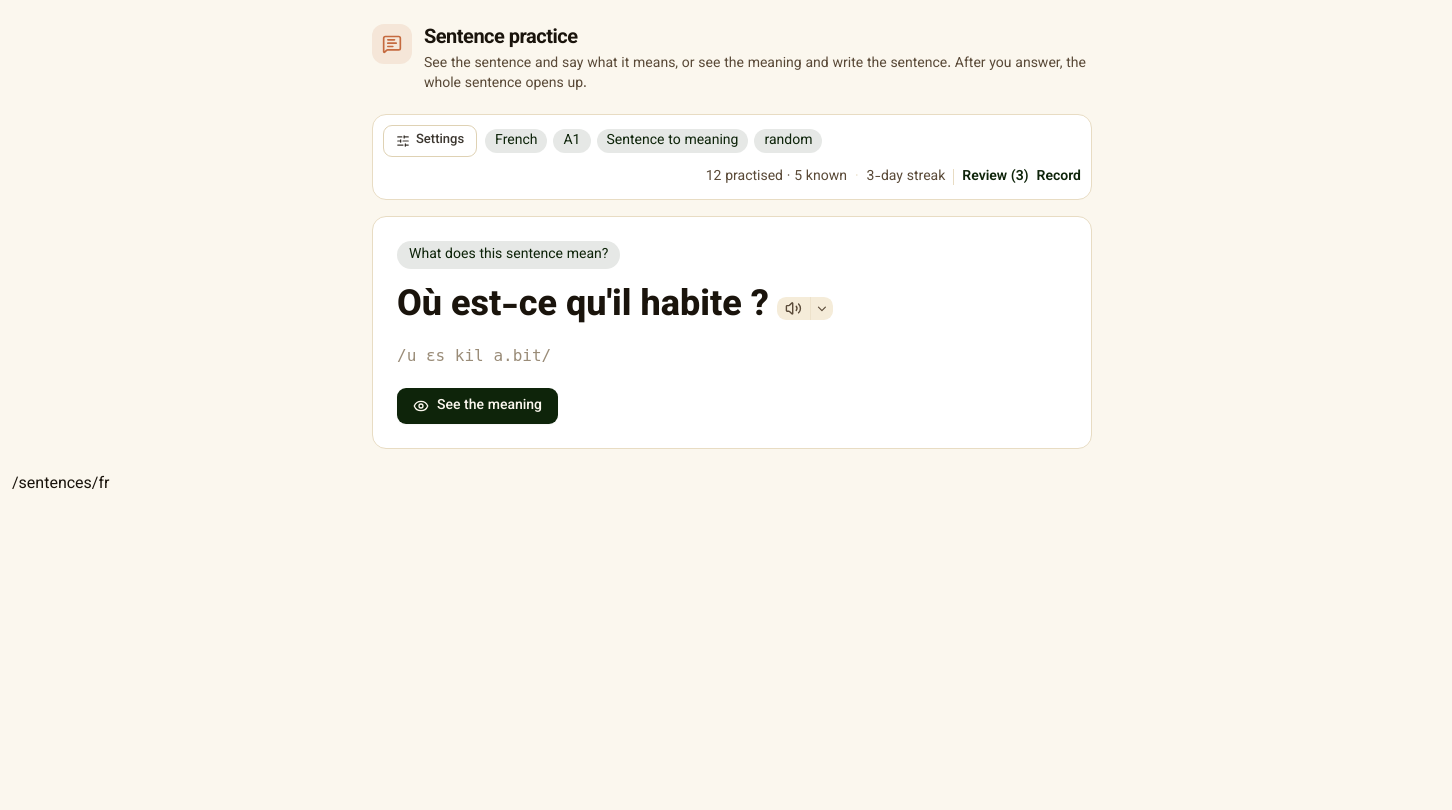
recognize, on screen › the answer is asked AFTER the meaning is open, and the next card carries what it did
Click the button with test id "reveal": click(478, 406) [397,388,558,424]
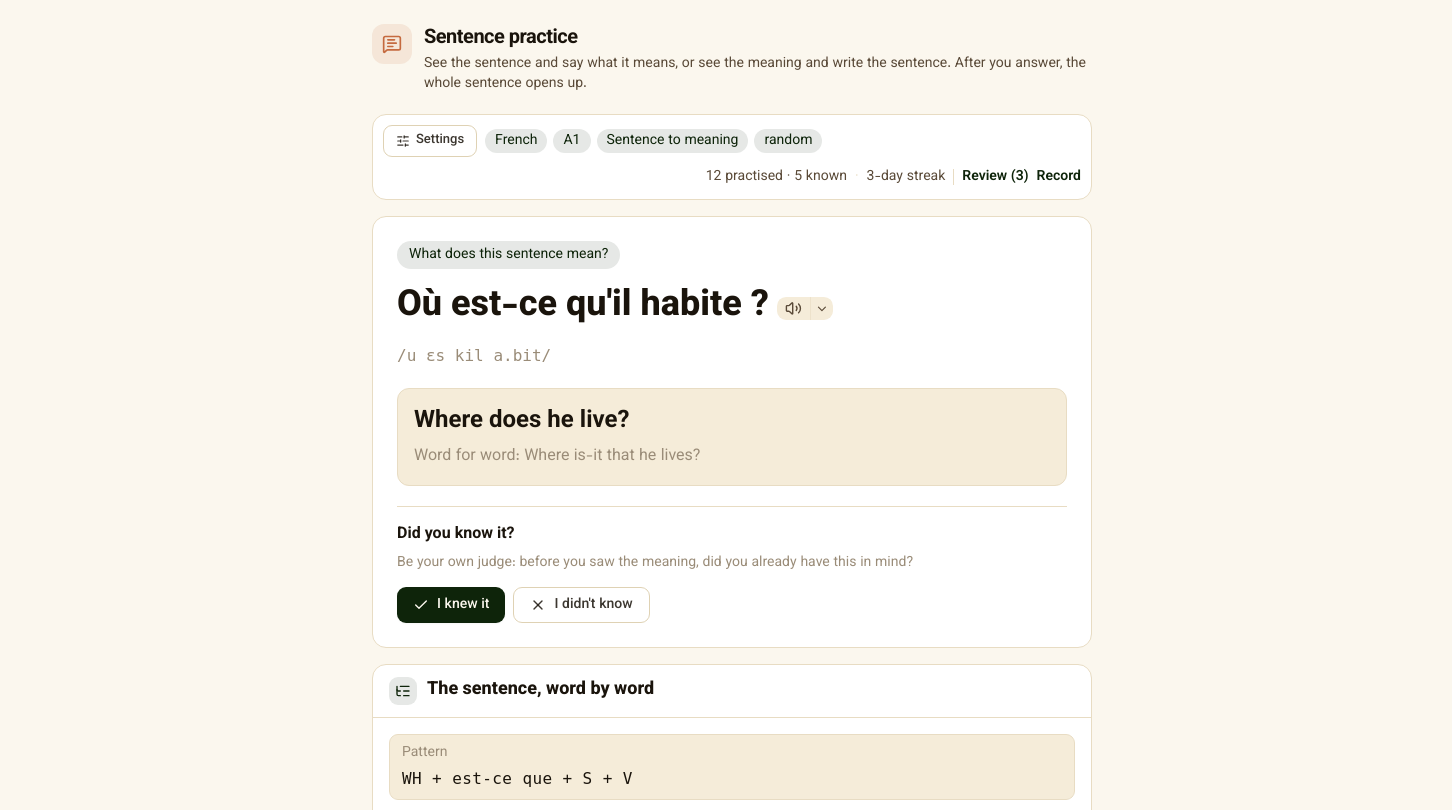
Result: the text "Did you know it?" is shown at [397,522,515,546]
Click the button with test id "knew": click(451, 604) [397,586,506,622]
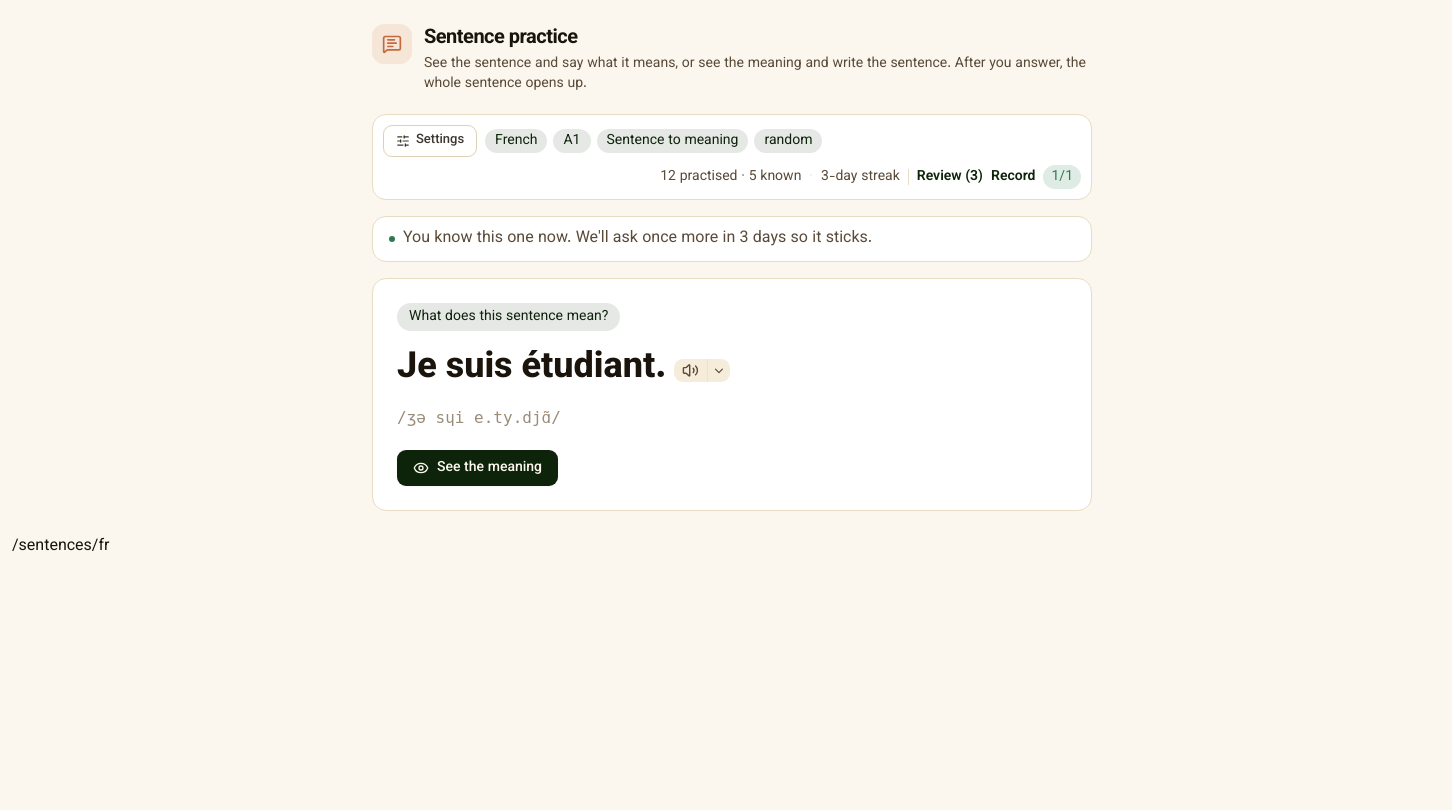
Result: the element with test id "outcome" shows "You know this one now" at [403,226,872,251]
Result: the text with test id "score" reads "1/1" at [1044,165,1081,189]
Result: the element with test id "prompt" shows "Je suis étudiant." at [372,278,1092,510]
